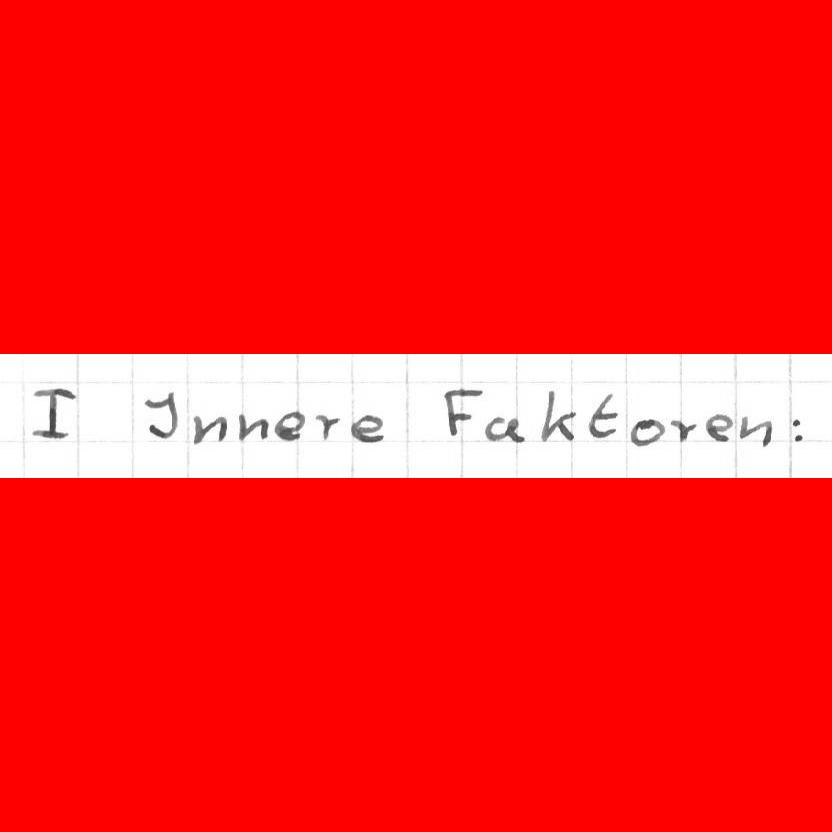Char: (26, 381, 83, 443), (537, 384, 582, 443), (441, 382, 487, 439), (137, 385, 182, 443), (585, 389, 624, 442), (481, 413, 530, 445), (348, 411, 389, 446), (191, 408, 230, 444), (739, 412, 777, 448), (629, 414, 665, 448), (272, 406, 305, 443), (236, 409, 270, 443), (312, 409, 344, 442), (704, 413, 734, 444), (670, 417, 698, 443), (789, 415, 808, 445)
